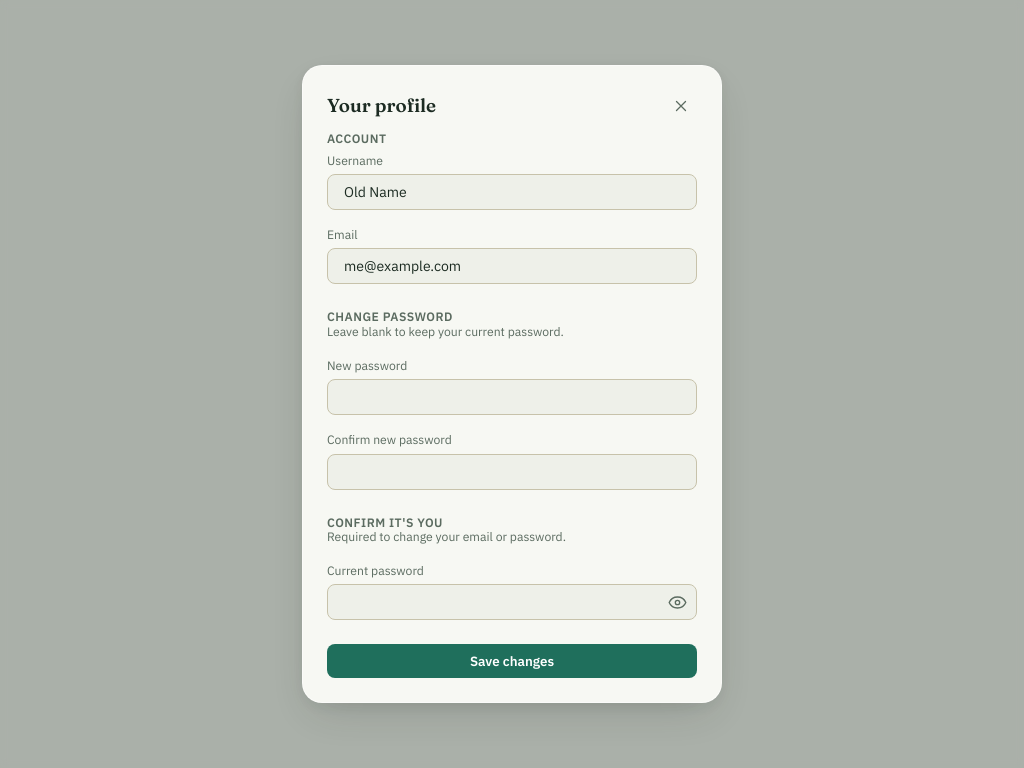
Test: ProfileModalComponent › updates only the display name when only the username changed
Replace the text in the field labelled "Username" with "New Name" at [512, 192], box [327, 174, 697, 210]
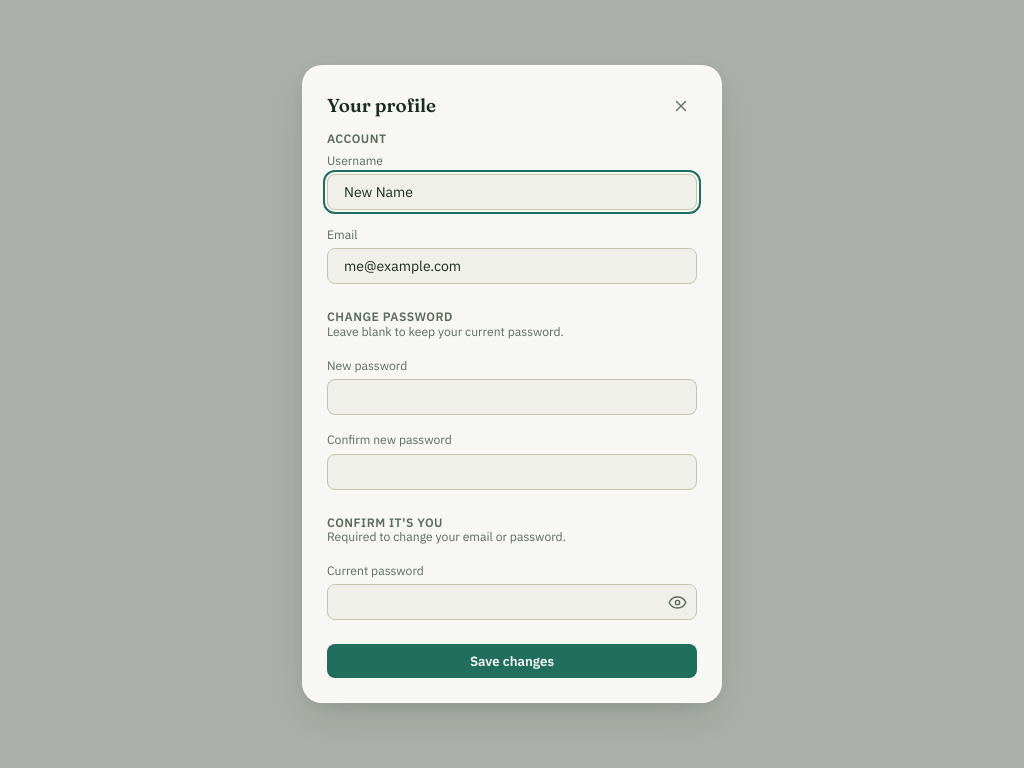
Click the button "Save changes" at [512, 661], box [327, 644, 697, 678]
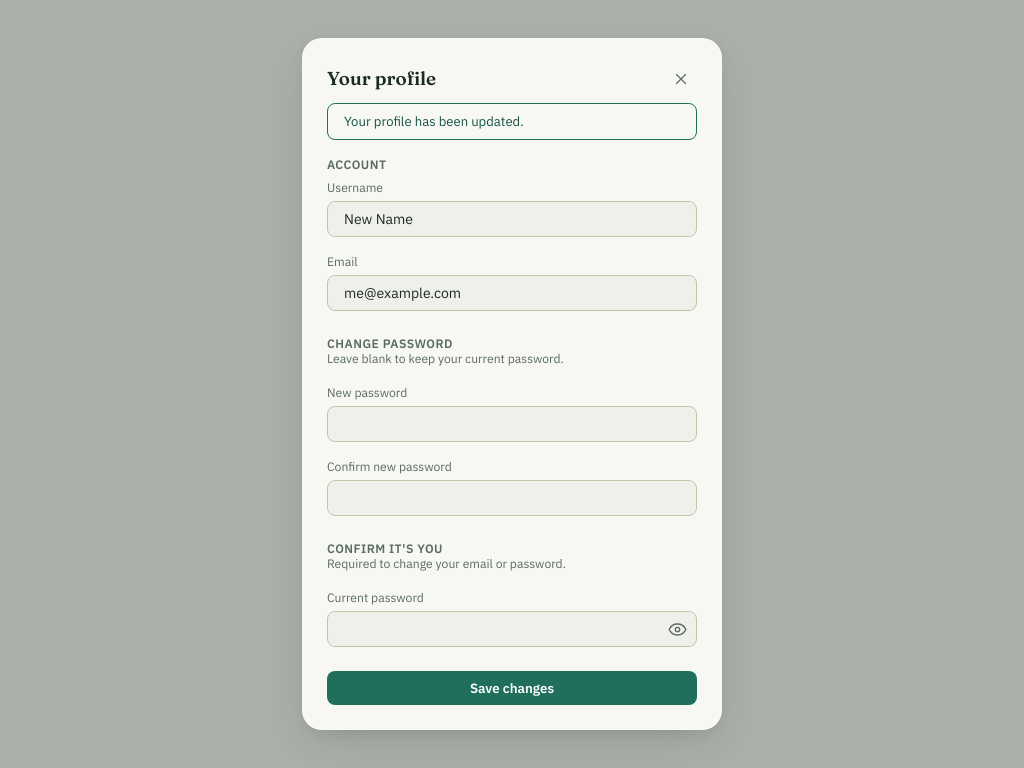
Expected: the message shows "updated", [344, 113, 524, 130]
